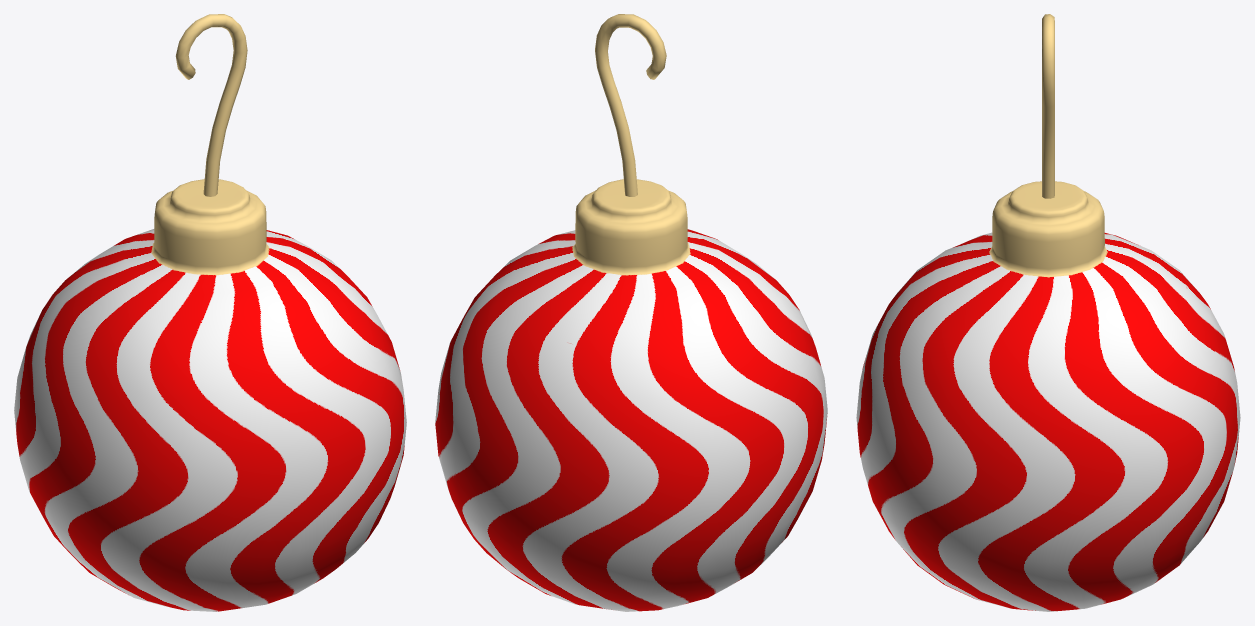
3 renders of one model, left to right at view 1: azimuth 30°, elevation 25°; view 2: azimuth 150°, elevation 25°; view 3: azimuth 270°, elevation 25°, orthographic.
Visible parts, largest first — view 1: christmas ball; view 2: christmas ball; view 3: christmas ball.
Part boxes in pixels (left/top/right/bottom): christmas ball: left=14, top=14, right=406, bottom=611; christmas ball: left=435, top=14, right=827, bottom=611; christmas ball: left=856, top=14, right=1240, bottom=611.
Size of the model in its own units: 1.02 by 1.68 by 1.02.
Materials: 1 (1 with a texture image).
